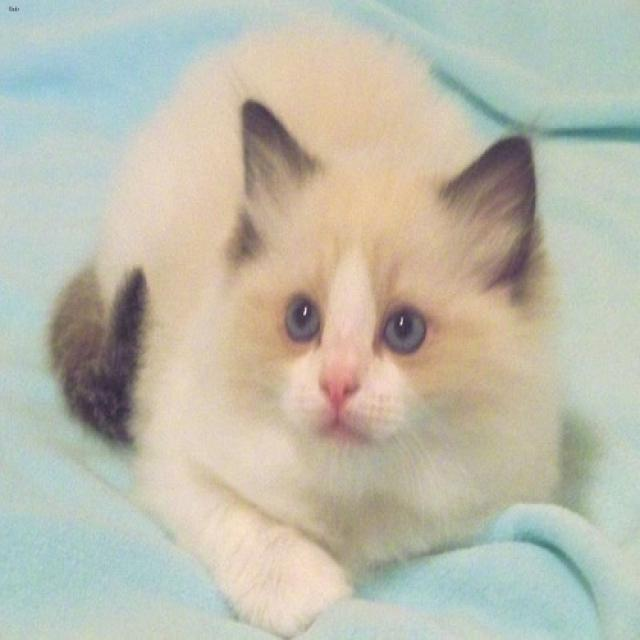Ragdoll: (241, 98, 534, 477)
